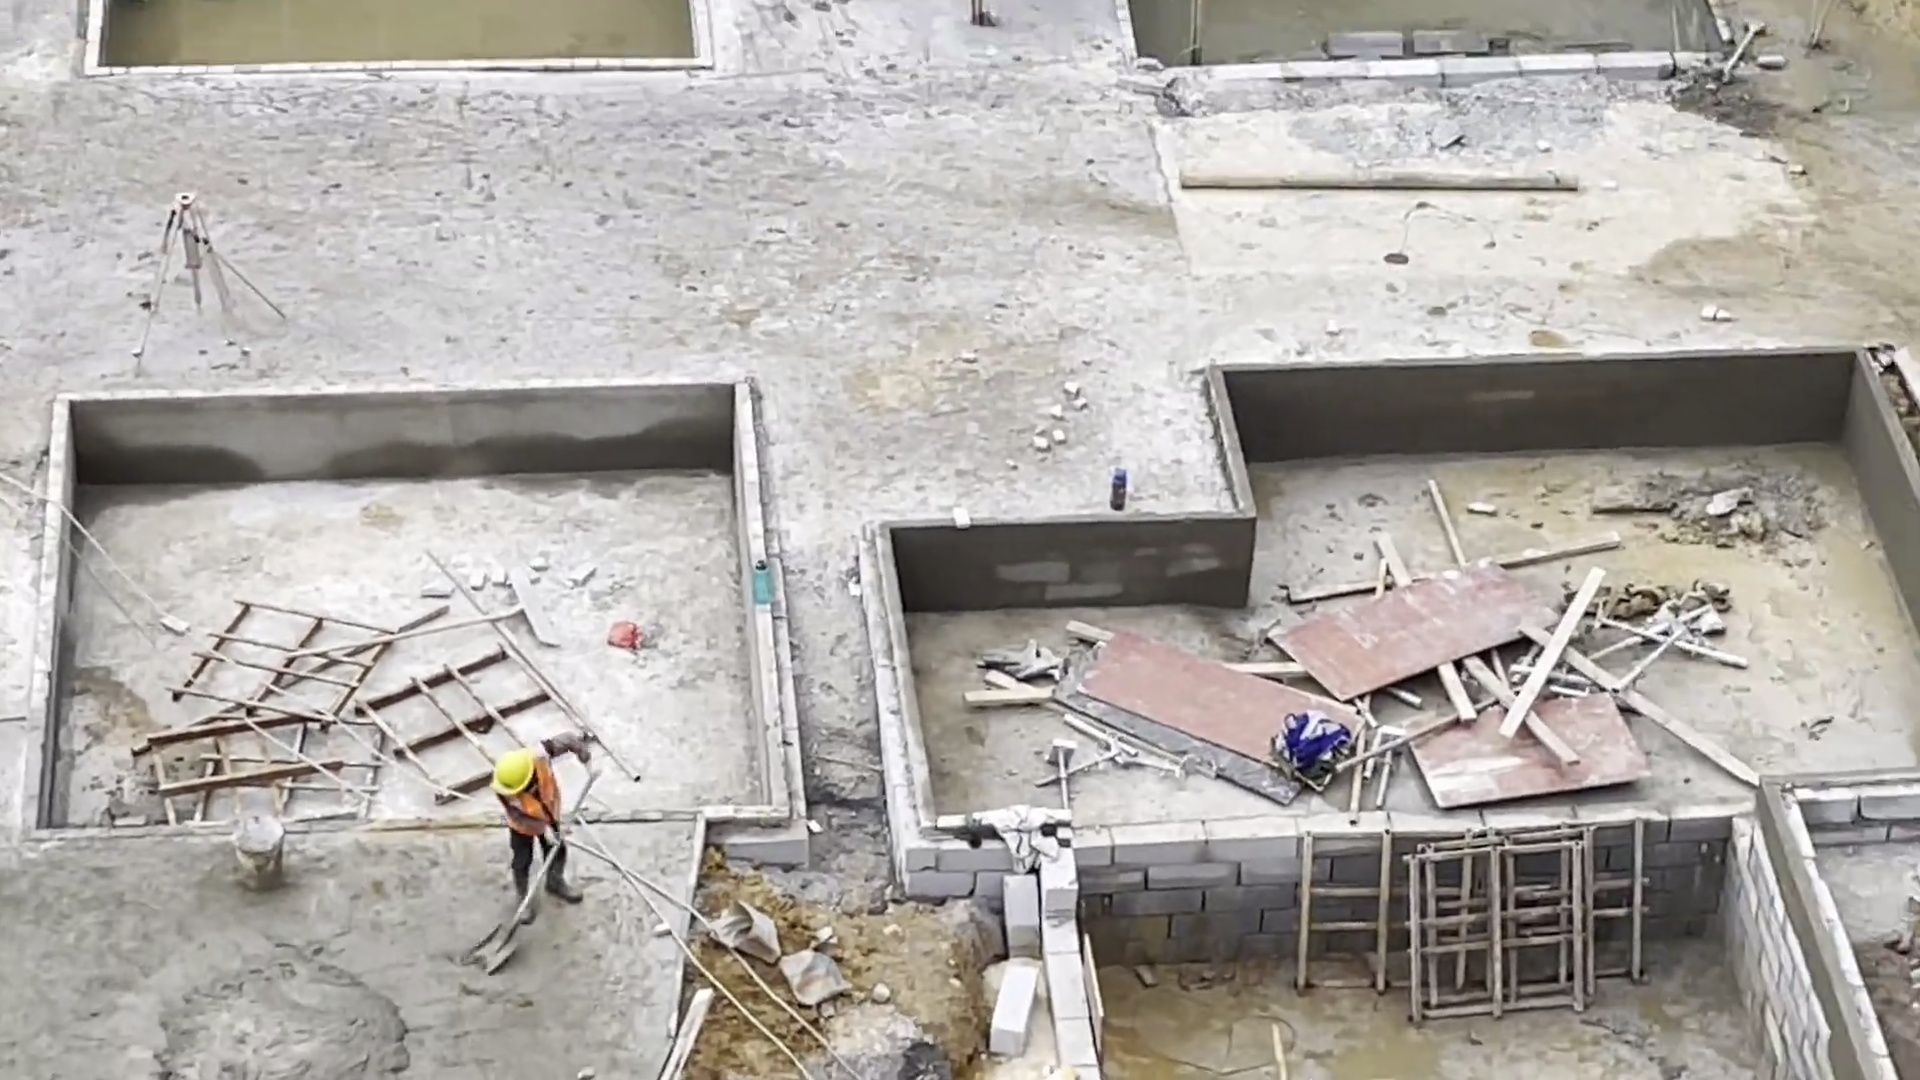helmet: (489, 750, 533, 798)
person: (493, 730, 589, 926)
vest: (503, 753, 561, 838)
